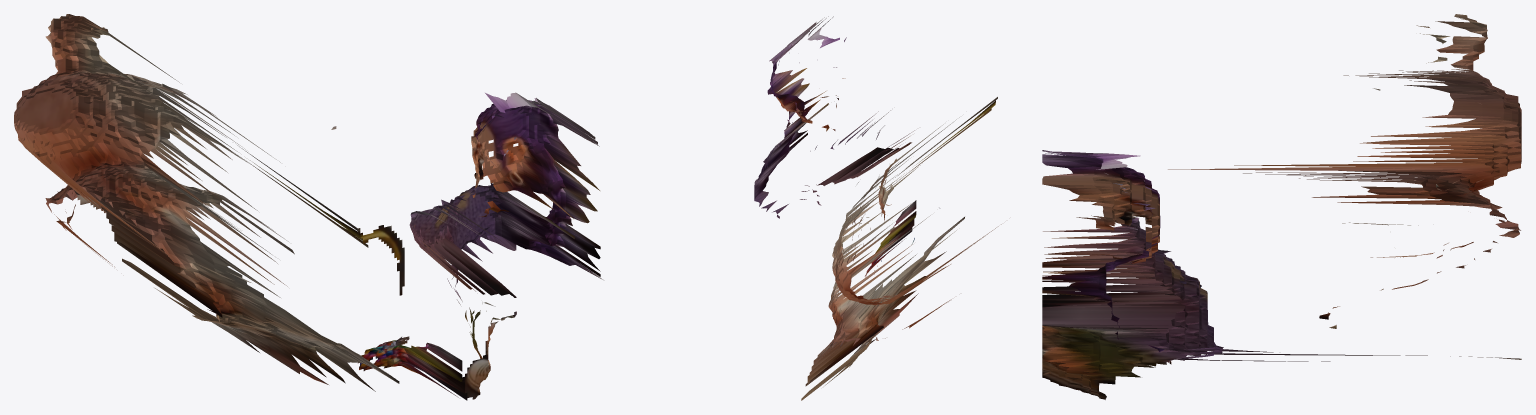
File: frame_00294.glb
3 renders of one model, left to right at view 1: azimuth 30°, elevation 25°; view 2: azimuth 150°, elevation 25°; view 3: azimuth 270°, elevation 25°, orthographic. The views are drawn at different scales.
Parts seen in each view (by area): view 1: geometry_0; view 2: geometry_0; view 3: geometry_0.
Part boxes in pixels (left/top/right/bottom): geometry_0: left=14, top=14, right=602, bottom=400; geometry_0: left=754, top=16, right=1001, bottom=400; geometry_0: left=1042, top=14, right=1521, bottom=399.
Size of the model in its own units: 0.1367 by 0.1084 by 0.16.
1 material, 1 textured.
